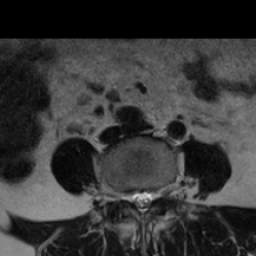CCS_normal: (138, 182, 146, 220)
LFS_normal: (153, 185, 160, 206)
LLS_normal: (145, 185, 152, 210)
RFS_normal: (123, 185, 131, 209)
RLS_normal: (131, 186, 138, 210)
